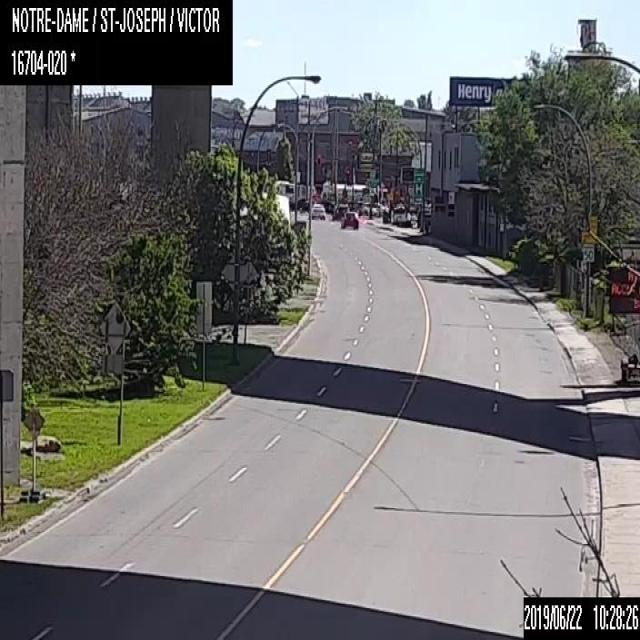construction: (608, 234, 639, 385)
vehicle: (340, 211, 358, 228), (332, 203, 349, 220), (392, 205, 406, 222), (311, 203, 325, 219)
